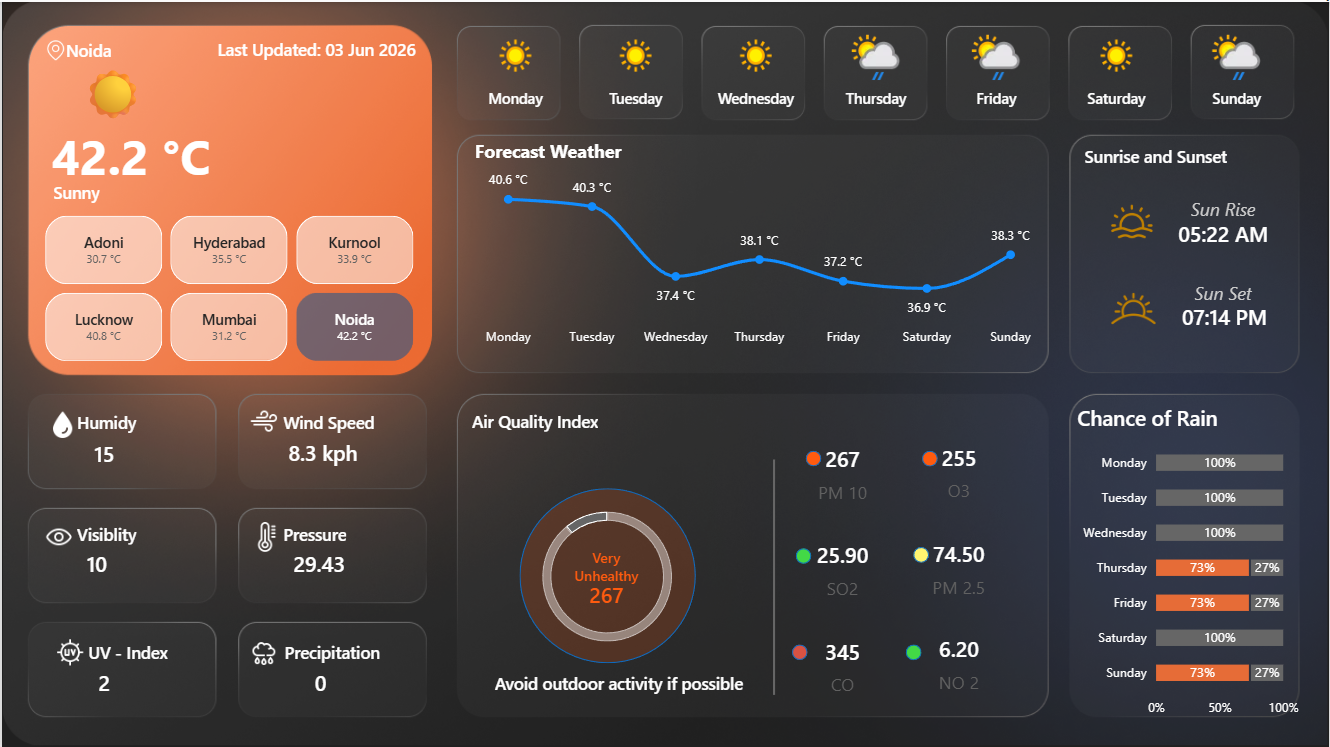

The page's visual inventory and layout, read from the dashboard file:
{"tool":"powerbi","page":{"name":"Page 1","canvas":[1280,720],"ordinal":0},"visuals":[{"type":"advancedSlicerVisual","fields":{"Label":["_Measures.Curr_temp_c"],"Values":["Location.location.name"]},"box":[21.4,205.7,395.7,141.4],"z":0},{"type":"shape","box":[35.7,104.3,177.1,88.6],"z":1000},{"type":"shape","box":[50,160,190,45.7],"z":2000},{"type":"shape","box":[61.1,23.4,137.9,46.8],"z":3000},{"type":"image","box":[41.6,36.4,19.5,20.8],"z":4000},{"type":"card","fields":{"Values":["_Measures.Weather Icon"]},"box":[54.3,35.7,107.1,101.4],"z":5000},{"type":"image","box":[22.9,501.4,64.3,28.6],"z":6000},{"type":"shape","box":[72.2,479.2,179.9,68.3],"z":7000},{"type":"image","box":[27.1,394.3,64.3,27.1],"z":8000},{"type":"shape","box":[72.2,371.5,179.9,68.3],"z":9000},{"type":"image","box":[34.3,614.3,64.3,27.1],"z":10000},{"type":"shape","box":[82.7,593.4,179.9,68.3],"z":11000},{"type":"image","box":[220.6,391.2,64.3,27.6],"z":12000},{"type":"image","box":[225,501.4,62.9,28.6],"z":13000},{"type":"image","box":[220.6,615.7,64.3,27.6],"z":14000},{"type":"shape","box":[271.8,371.5,179.9,68.3],"z":15000},{"type":"shape","box":[271.8,479.2,179.9,68.3],"z":16000},{"type":"shape","box":[273.1,593.4,179.9,68.3],"z":17000},{"type":"card","fields":{"Values":["Sum(Current.current.humidity)"]},"box":[42,407,112.9,64.3],"z":18000},{"type":"card","fields":{"Values":["_Measures.Wind_Speed"]},"box":[253.4,405.7,112.9,64.3],"z":19000},{"type":"card","fields":{"Values":["Sum(Current.current.pressure_in)"]},"box":[250,513.3,112.9,64.3],"z":20000},{"type":"card","fields":{"Values":["Sum(Current.current.uv)"]},"box":[42,627.5,112.9,64.3],"z":21000},{"type":"card","fields":{"Values":["Sum(Current.current.precip_in)"]},"box":[250.7,627.5,112.9,64.3],"z":22000},{"type":"card","fields":{"Values":["Sum(Current.current.vis_km)"]},"box":[35.4,513.3,112.9,64.3],"z":23000},{"type":"advancedSlicerVisual","fields":{"Values":["Forcast_Day.Day_Name"]},"box":[441.4,22.9,808.6,88.6],"z":24000},{"type":"lineChart","title":"Forecast Weather","fields":{"Category":["Forcast_Day.Day_Name"],"Y":["Sum(Forcast_Day.forecast.forecastday.day.avgtemp_c)"]},"box":[440,118.3,581.4,233.7],"z":25000},{"type":"shape","box":[1044.8,114.6,179.8,68.8],"z":26000},{"type":"shape","box":[1090.7,178.9,176,89.5],"z":27000},{"type":"shape","box":[1092.2,259.7,176,89.5],"z":28000},{"type":"shape","box":[1090.7,137.1,176,122.6],"z":29000},{"type":"shape","box":[1090.7,235.2,176,89.5],"z":30000},{"type":"image","box":[1069.1,191.9,43.3,40.4],"z":31000},{"type":"image","box":[1057.5,268.4,67.8,56.3],"z":32000},{"type":"hundredPercentStackedBarChart","title":"Chance of Rain","fields":{"Category":["Forcast_Day.Day_Name"],"Y":["_Measures.Rain Chance %","_Measures.No Rain %"]},"box":[1021.4,372.9,245.7,337.1],"z":33000},{"type":"shape","box":[453,369.3,180.3,69.3],"z":34000},{"type":"card","fields":{"Values":["Sum(Current.current.air_quality.o3)"]},"box":[867.6,407.3,112.2,91.4],"z":35000},{"type":"card","fields":{"Values":["Sum(Current.current.air_quality.pm2_5)"]},"box":[867.6,500.1,112.2,91.4],"z":36000},{"type":"card","fields":{"Values":["Sum(Current.current.air_quality.no2)"]},"box":[867.6,592.9,112.2,91.4],"z":37000},{"type":"card","fields":{"Values":["Sum(Current.current.air_quality.pm10)"]},"box":[755.7,409.5,112.2,91.4],"z":38000},{"type":"card","fields":{"Values":["Sum(Current.current.air_quality.so2)"]},"box":[755.7,502.3,112.2,91.4],"z":39000},{"type":"card","fields":{"Values":["Sum(Current.current.air_quality.co)"]},"box":[755.7,595.1,112.2,91.4],"z":40000},{"type":"shape","box":[775.8,433.6,15,15],"z":41000},{"type":"shape","box":[766.1,527.8,15,15],"z":42000},{"type":"shape","box":[761.9,620.6,15,15],"z":43000},{"type":"shape","box":[888,433.6,15.2,15.2],"z":44000},{"type":"shape","box":[879.7,526.4,15.2,15.2],"z":45000},{"type":"shape","box":[872.7,620.6,15.2,15.2],"z":46000},{"type":"shape","box":[655.2,441.9,180.1,227.2],"z":47000},{"type":"card","fields":{"Values":["Sum(Current.current.air_quality.pm10)"]},"box":[527.2,512.7,112.2,86.9],"z":48000},{"type":"shape","box":[499.5,469.3,170.1,168.9],"z":49000},{"type":"donutChart","fields":{"Y":["Sum(Current.current.air_quality.pm10)","_Measures.Left_Value_PM10"]},"box":[490,461.4,188.6,188.6],"z":50000},{"type":"shape","box":[459.9,622,271.5,69.3],"z":51000},{"type":"card","fields":{"Values":["_Measures.Last Updated"]},"box":[108.6,0,390,97.1],"z":52000}]}

Visuals, with their boxes in screenshot pixels (x1, y1, x2, y2), scaled from the page's 1280x720 canvas onto the 1330x747 screenshot:
advancedSlicerVisual - _Measures.Curr_temp_c x Location.location.name: bbox(22, 213, 433, 360)
shape: bbox(37, 108, 221, 200)
shape: bbox(52, 166, 249, 213)
shape: bbox(63, 24, 207, 73)
image: bbox(43, 38, 63, 59)
card - _Measures.Weather Icon: bbox(56, 37, 168, 142)
image: bbox(24, 520, 91, 550)
shape: bbox(75, 497, 262, 568)
image: bbox(28, 409, 95, 437)
shape: bbox(75, 385, 262, 456)
image: bbox(36, 637, 102, 665)
shape: bbox(86, 616, 273, 687)
image: bbox(229, 406, 296, 435)
image: bbox(234, 520, 299, 550)
image: bbox(229, 639, 296, 667)
shape: bbox(282, 385, 469, 456)
shape: bbox(282, 497, 469, 568)
shape: bbox(284, 616, 471, 687)
card - Sum(Current.current.humidity): bbox(44, 422, 161, 489)
card - _Measures.Wind_Speed: bbox(263, 421, 381, 488)
card - Sum(Current.current.pressure_in): bbox(260, 533, 377, 599)
card - Sum(Current.current.uv): bbox(44, 651, 161, 718)
card - Sum(Current.current.precip_in): bbox(260, 651, 378, 718)
card - Sum(Current.current.vis_km): bbox(37, 533, 154, 599)
advancedSlicerVisual - Forcast_Day.Day_Name: bbox(459, 24, 1299, 116)
"Forecast Weather" lineChart: bbox(457, 123, 1061, 365)
shape: bbox(1086, 119, 1272, 190)
shape: bbox(1133, 186, 1316, 278)
shape: bbox(1135, 269, 1318, 362)
shape: bbox(1133, 142, 1316, 269)
shape: bbox(1133, 244, 1316, 337)
image: bbox(1111, 199, 1156, 241)
image: bbox(1099, 278, 1169, 337)
"Chance of Rain" hundredPercentStackedBarChart: bbox(1061, 387, 1317, 737)
shape: bbox(471, 383, 658, 455)
card - Sum(Current.current.air_quality.o3): bbox(901, 423, 1018, 517)
card - Sum(Current.current.air_quality.pm2_5): bbox(901, 519, 1018, 614)
card - Sum(Current.current.air_quality.no2): bbox(901, 615, 1018, 710)
card - Sum(Current.current.air_quality.pm10): bbox(785, 425, 902, 520)
card - Sum(Current.current.air_quality.so2): bbox(785, 521, 902, 616)
card - Sum(Current.current.air_quality.co): bbox(785, 617, 902, 712)
shape: bbox(806, 450, 822, 465)
shape: bbox(796, 548, 812, 563)
shape: bbox(792, 644, 807, 659)
shape: bbox(923, 450, 938, 466)
shape: bbox(914, 546, 930, 562)
shape: bbox(907, 644, 923, 660)
shape: bbox(681, 458, 868, 694)
card - Sum(Current.current.air_quality.pm10): bbox(548, 532, 664, 622)
shape: bbox(519, 487, 696, 662)
donutChart - Sum(Current.current.air_quality.pm10) x _Measures.Left_Value_PM10: bbox(509, 479, 705, 674)
shape: bbox(478, 645, 760, 717)
card - _Measures.Last Updated: bbox(113, 0, 518, 101)
